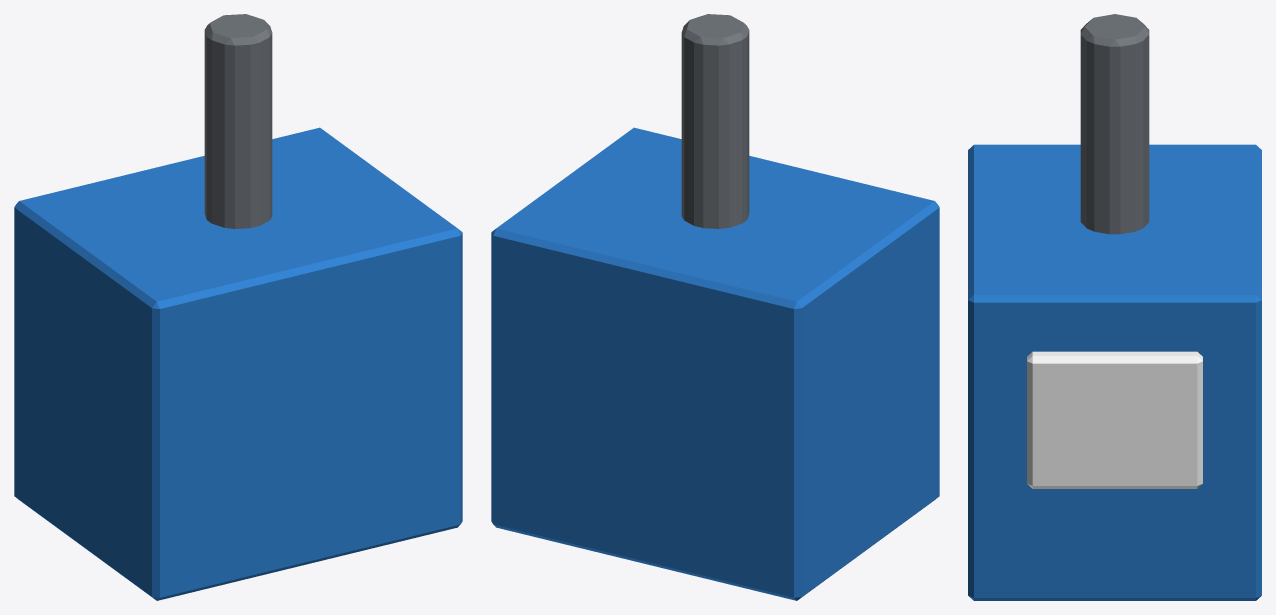
The model's file is toy_machine.glb.
The picture shows the model from 3 angles, left to right: view 1: azimuth 30°, elevation 25°; view 2: azimuth 150°, elevation 25°; view 3: azimuth 270°, elevation 25°; orthographic projection. The views are drawn at different scales.
Visible parts, largest first — view 1: toy_machine; view 2: toy_machine; view 3: toy_machine.
Boxes of the visible parts, left/top/right/bottom form: toy_machine: left=14, top=14, right=462, bottom=600; toy_machine: left=491, top=14, right=939, bottom=600; toy_machine: left=968, top=14, right=1261, bottom=600.
Bounding box in the file's own units: 0.525 × 0.75 × 0.4.
